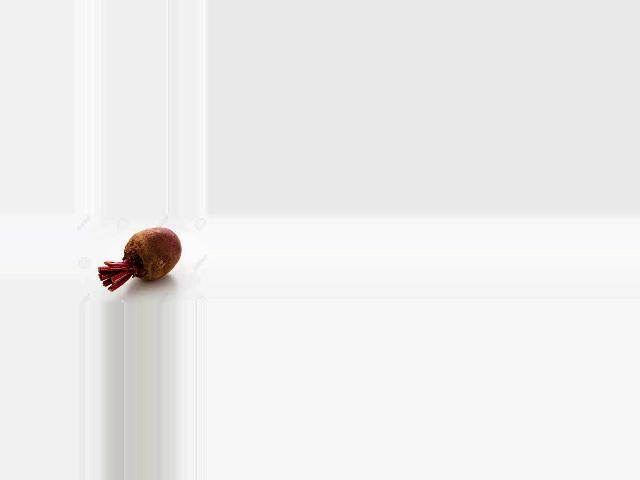beet: (98, 227, 182, 292)
